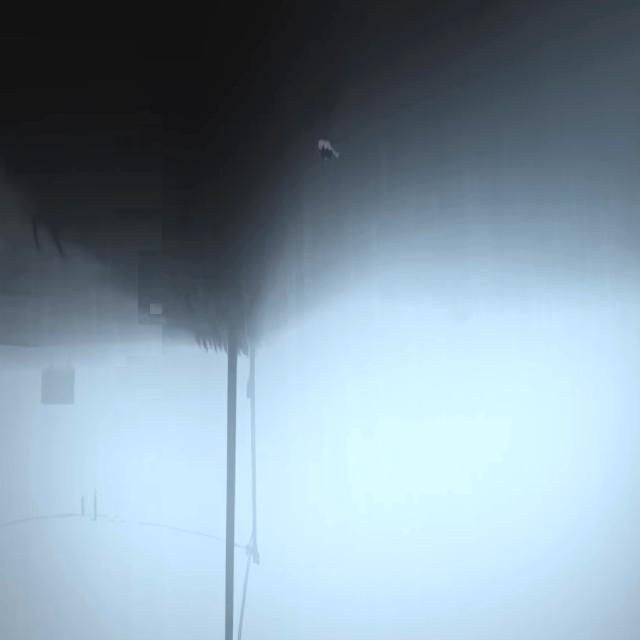boy: (319, 133, 337, 161)
